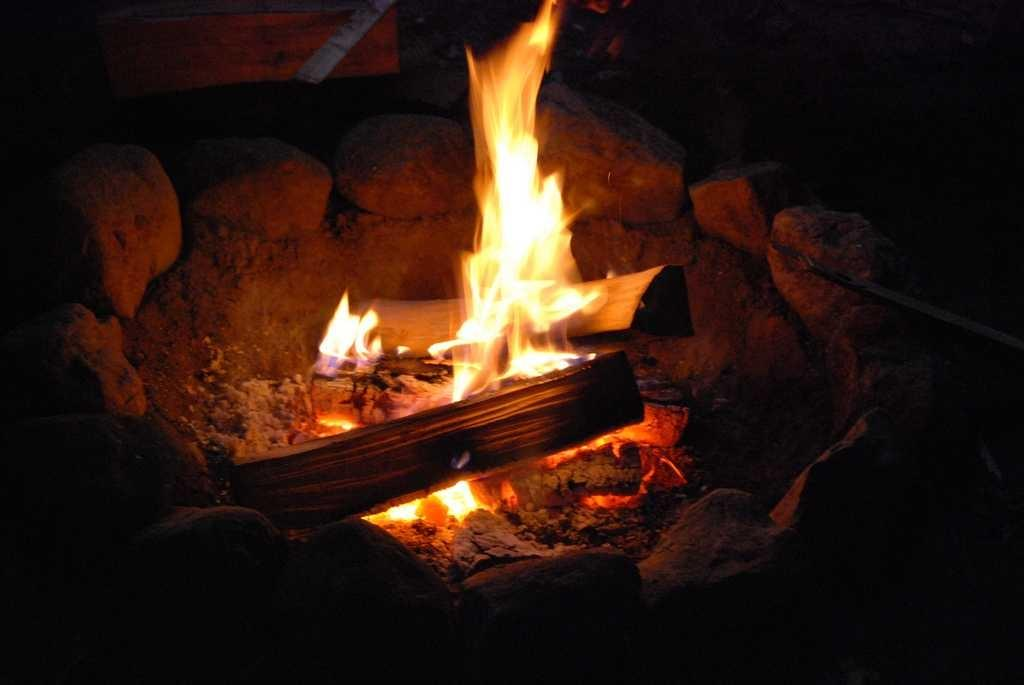fire: (467, 45, 560, 362), (325, 309, 378, 369), (425, 481, 491, 512)
